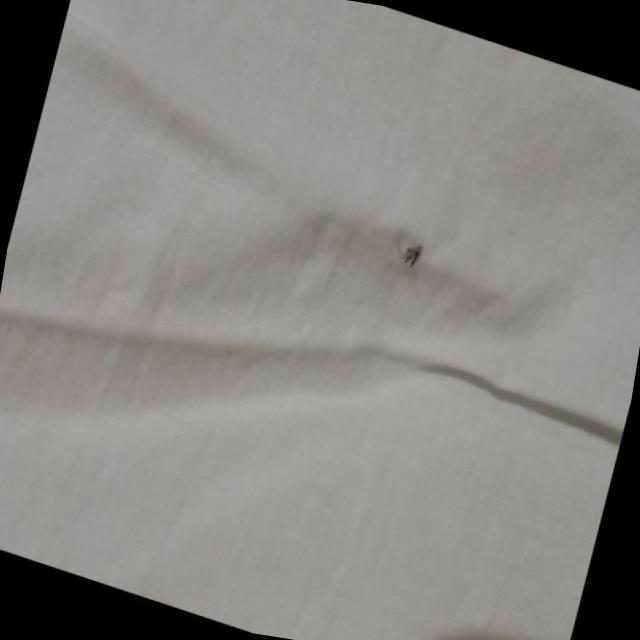stain: (386, 222, 442, 284)
